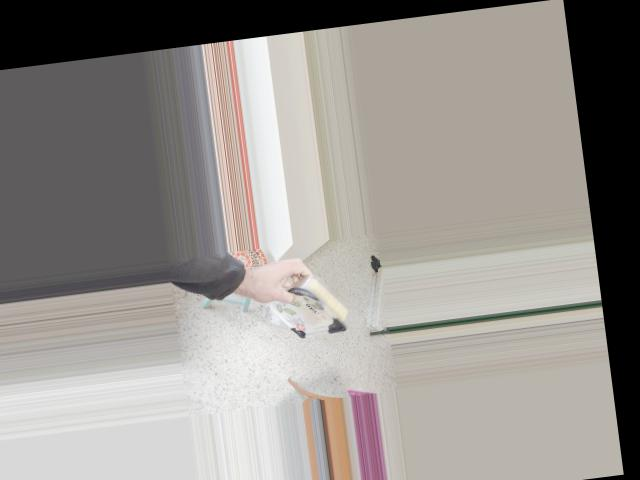cheese: (266, 244, 372, 365)
